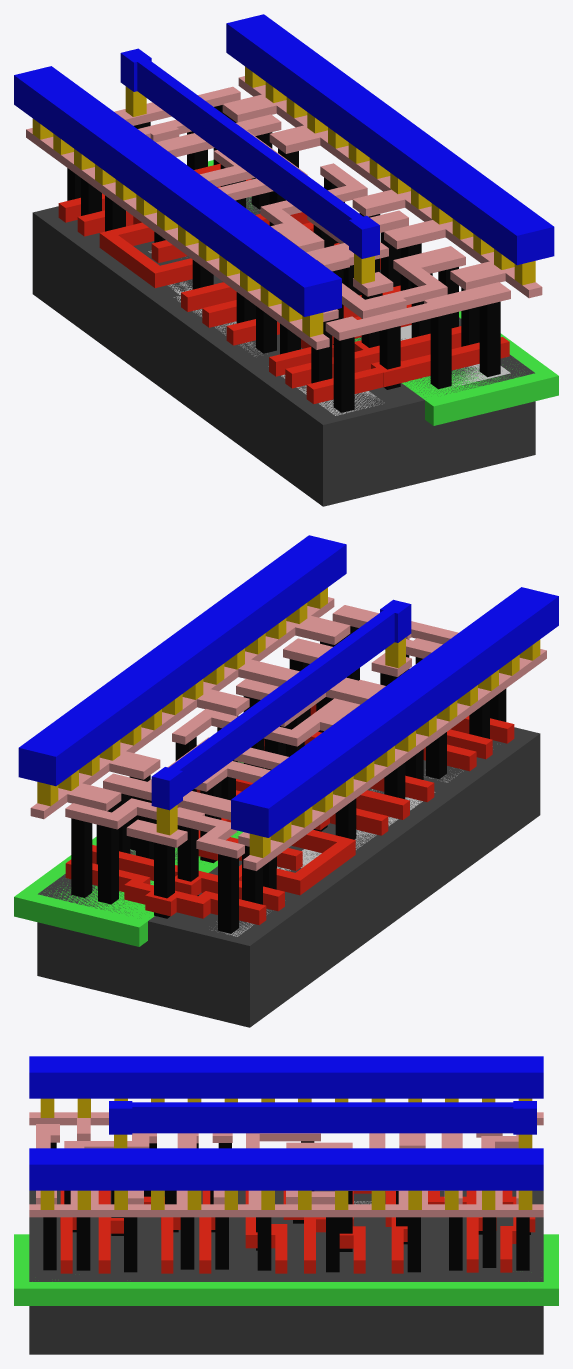
Rendered from sky130_fd_sc_hd__dlclkp_1.obj.
3 renders of one model, top to bottom at view 1: azimuth 30°, elevation 25°; view 2: azimuth 150°, elevation 25°; view 3: azimuth 270°, elevation 25°, orthographic. The views are drawn at different scales.
Visible parts, largest first — view 1: metal1, subs, li, licon, poly, mcon, nwell, diff, tap; view 2: metal1, subs, li, licon, poly, mcon, nwell, diff; view 3: metal1, subs, nwell, li, poly, licon, mcon.
Boxes of the visible parts, bbox=[...] form: metal1: bbox=[14, 14, 554, 316]; subs: bbox=[32, 197, 535, 506]; li: bbox=[26, 76, 542, 349]; licon: bbox=[67, 105, 500, 412]; poly: bbox=[58, 164, 509, 404]; mcon: bbox=[32, 66, 535, 336]; nwell: bbox=[208, 160, 558, 425]; diff: bbox=[148, 250, 384, 415]; tap: bbox=[251, 205, 510, 388]; metal1: bbox=[18, 535, 558, 837]; subs: bbox=[37, 727, 540, 1027]; li: bbox=[30, 597, 546, 870]; licon: bbox=[71, 626, 506, 933]; poly: bbox=[65, 704, 514, 925]; mcon: bbox=[37, 587, 540, 857]; nwell: bbox=[14, 761, 243, 946]; diff: bbox=[211, 770, 463, 936]; metal1: bbox=[29, 1056, 543, 1190]; subs: bbox=[29, 1190, 543, 1354]; nwell: bbox=[14, 1234, 558, 1305]; li: bbox=[29, 1112, 543, 1217]; poly: bbox=[60, 1190, 535, 1273]; licon: bbox=[43, 1141, 530, 1272]; mcon: bbox=[40, 1098, 532, 1209].
Bounding box in the file's own units: 3.2 × 2.74 × 6.82.
